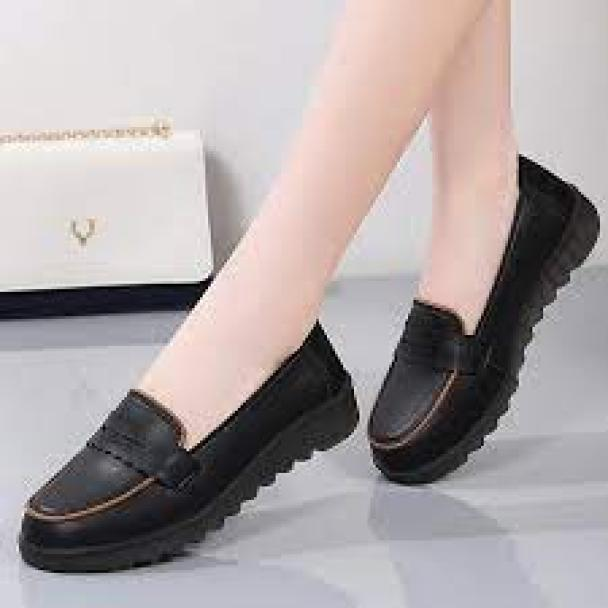Sepatu: (17, 314, 358, 580), (370, 162, 599, 475)
